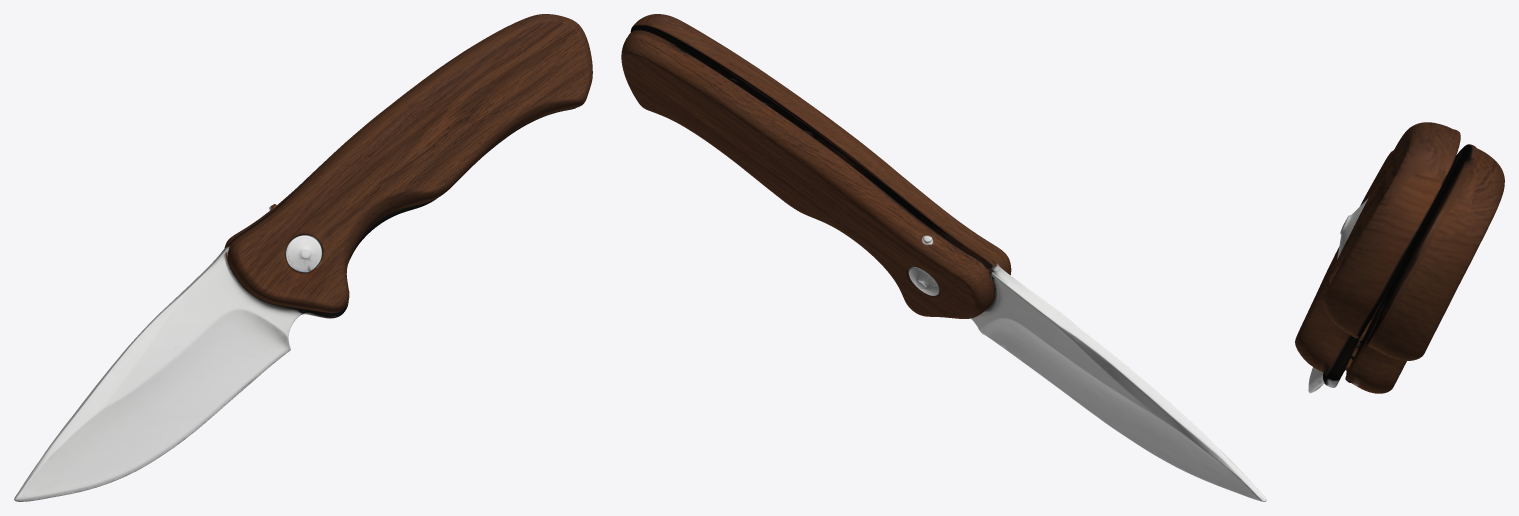
The model's file is tool-xiaodao.glb.
3 views of the same model, side by side, from view 1: azimuth 30°, elevation 25°; view 2: azimuth 150°, elevation 25°; view 3: azimuth 270°, elevation 25° (orthographic). The views are drawn at different scales.
Visible parts, largest first — view 1: node_0; view 2: node_0; view 3: node_0.
Part boxes in pixels (left/top/right/bottom): node_0: left=14, top=14, right=592, bottom=501; node_0: left=621, top=14, right=1266, bottom=501; node_0: left=1295, top=122, right=1504, bottom=393.
Bounding box in the file's own units: 1.05 × 0.5822 × 0.1629.
1 material, 1 textured.
